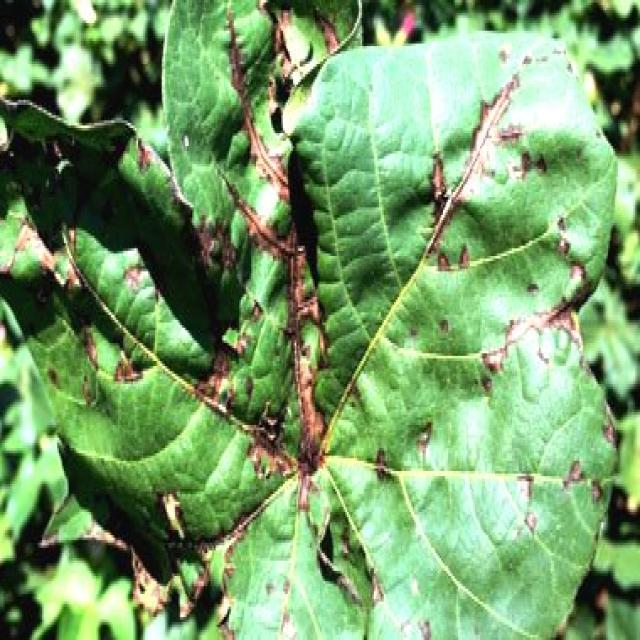Bacterial Blight: (178, 58, 352, 526)
